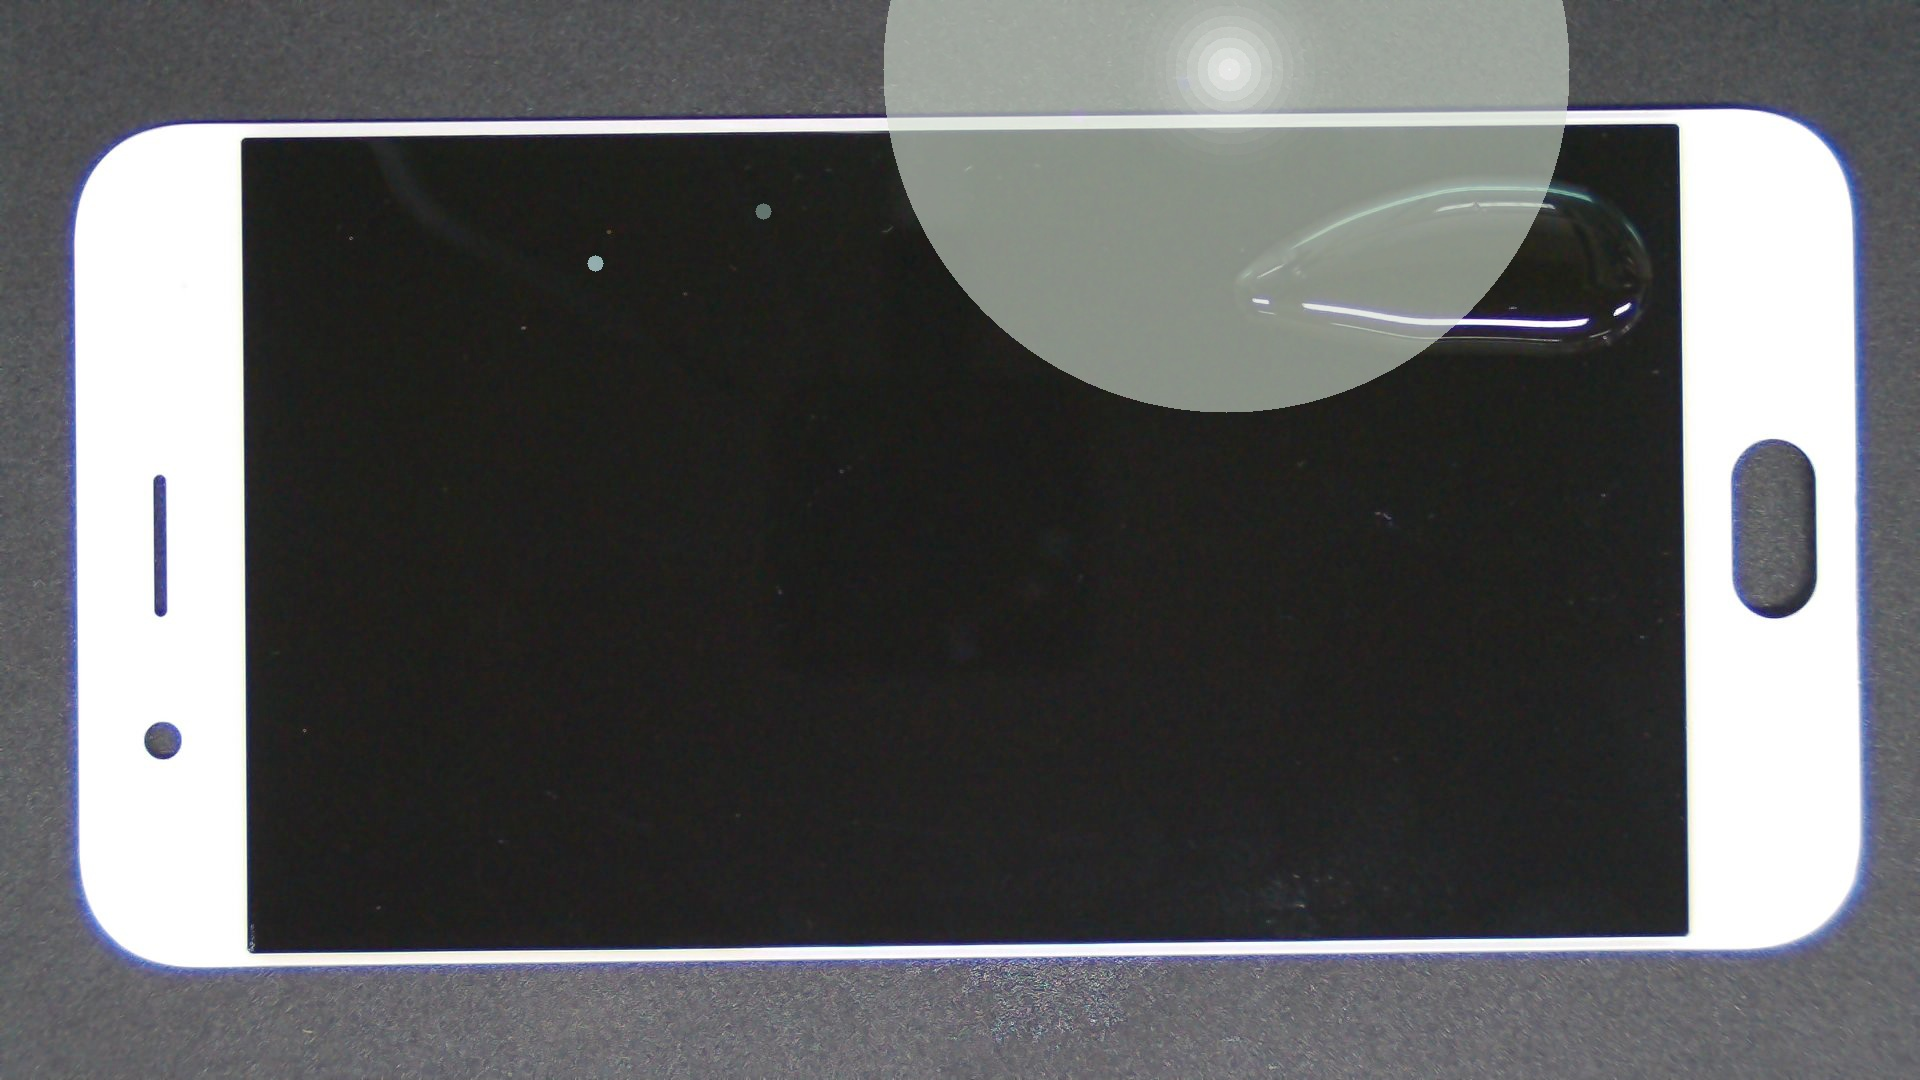oil: (757, 87, 1920, 262)
